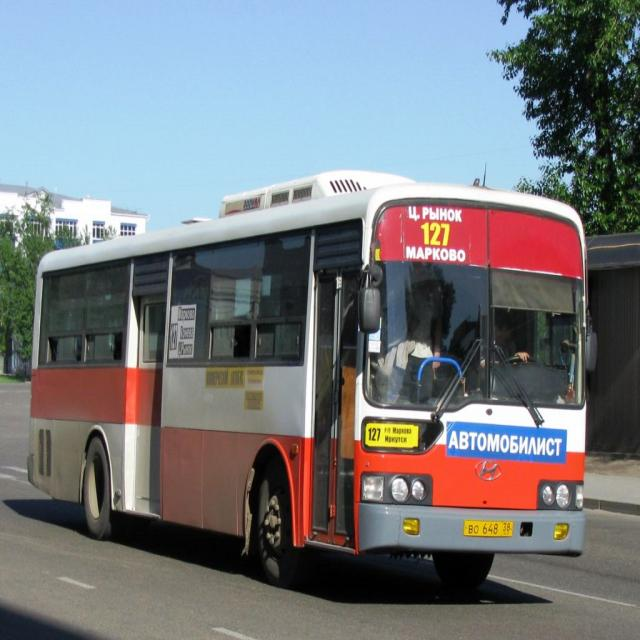number-of-bus: (420, 221, 452, 249), (369, 426, 385, 445)
